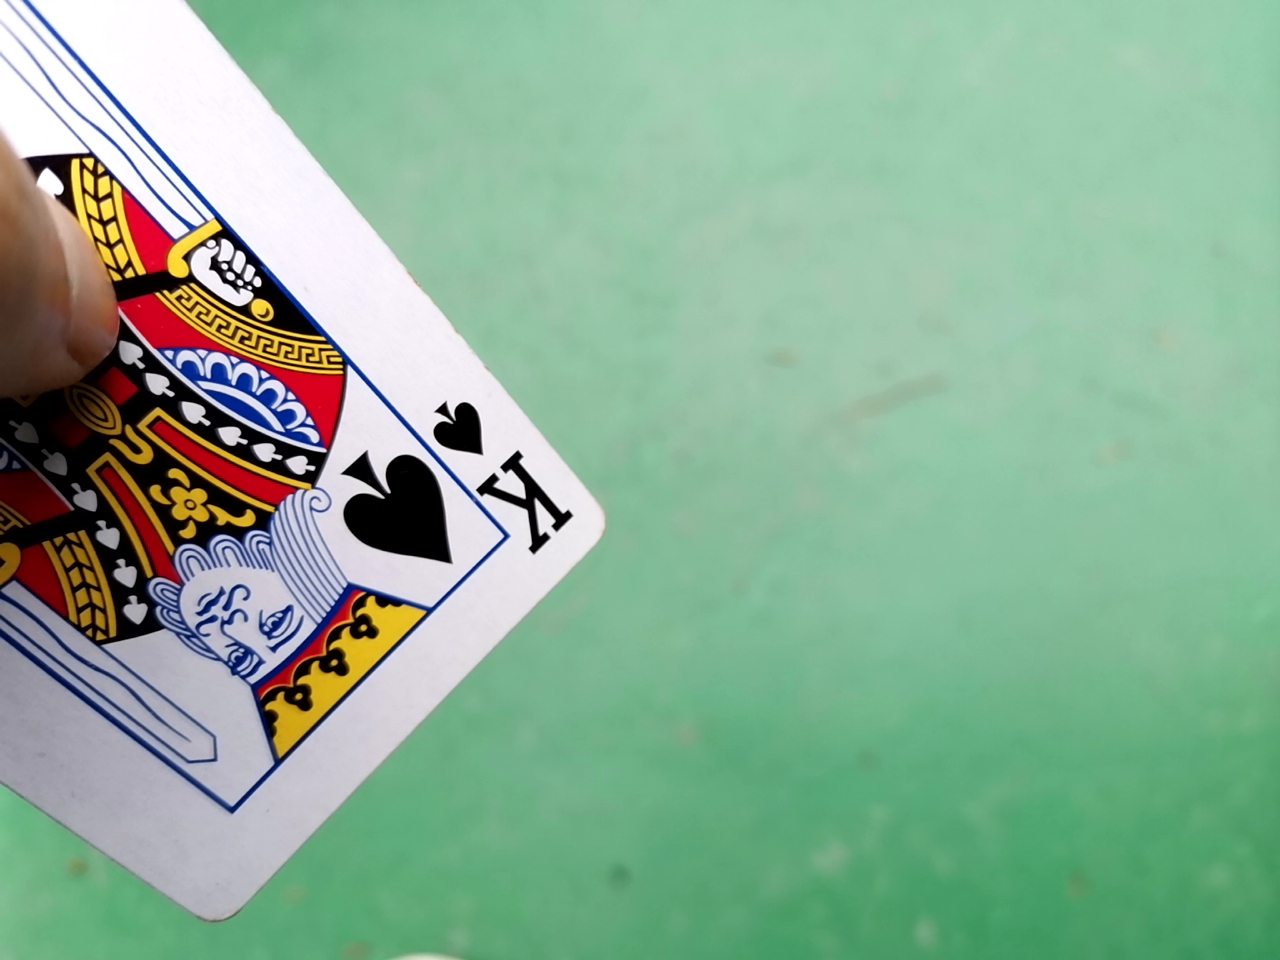ht k: (3, 0, 612, 921)
